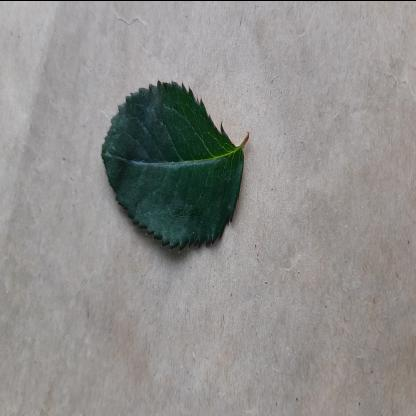normal: (102, 67, 246, 263)
